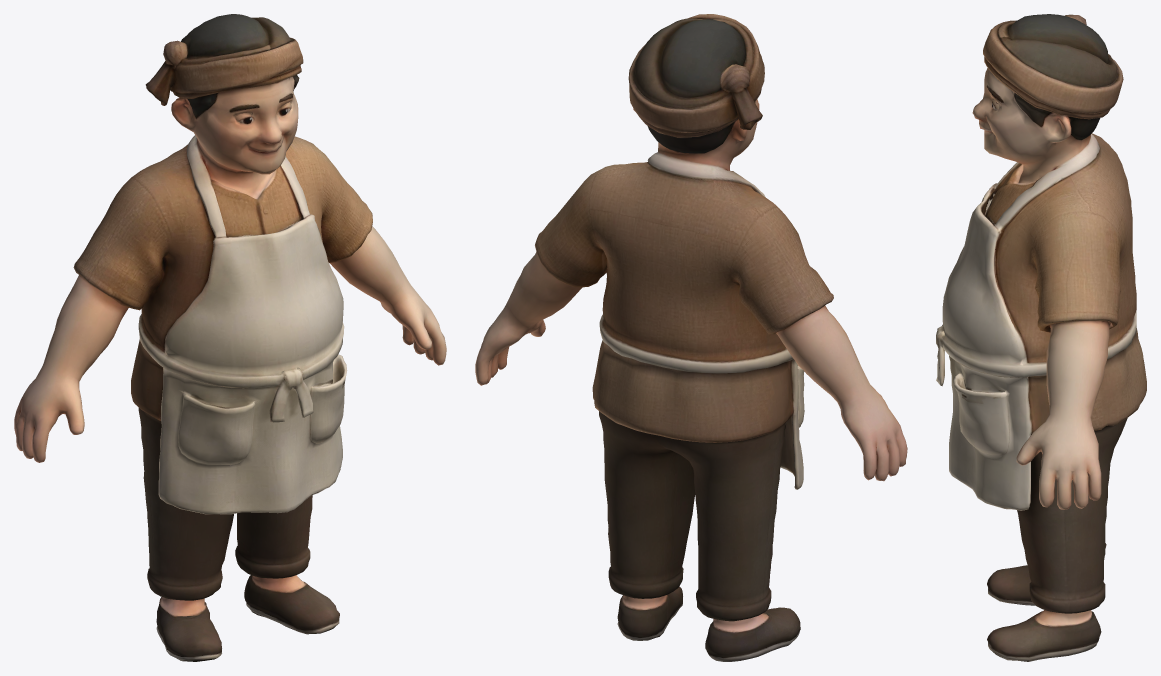
Rendered from bac-an.e9a09cbd.glb.
3 renders of one model, left to right at view 1: azimuth 30°, elevation 25°; view 2: azimuth 150°, elevation 25°; view 3: azimuth 270°, elevation 25°, orthographic.
Visible parts, largest first — view 1: tripo_node_a34addcf-4d7d-4306-ab70-343d9b08ec8b; view 2: tripo_node_a34addcf-4d7d-4306-ab70-343d9b08ec8b; view 3: tripo_node_a34addcf-4d7d-4306-ab70-343d9b08ec8b.
Part boxes in pixels (left/top/right/bottom): tripo_node_a34addcf-4d7d-4306-ab70-343d9b08ec8b: left=14, top=14, right=446, bottom=661; tripo_node_a34addcf-4d7d-4306-ab70-343d9b08ec8b: left=475, top=14, right=907, bottom=661; tripo_node_a34addcf-4d7d-4306-ab70-343d9b08ec8b: left=936, top=14, right=1146, bottom=661.
Size of the model in its own units: 0.6983 by 0.9775 by 0.3099.
1 material, 1 textured.
